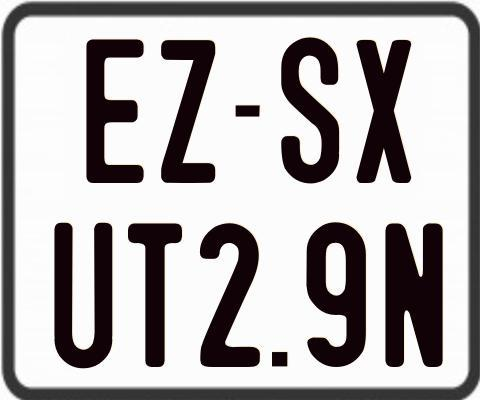2: (197, 220, 260, 364)
9: (303, 220, 364, 366)
E: (83, 38, 142, 185)
N: (385, 221, 443, 368)
S: (279, 35, 337, 184)
T: (125, 221, 179, 366)
U: (54, 223, 112, 374)
X: (357, 37, 414, 181)
Z: (158, 38, 217, 187)
